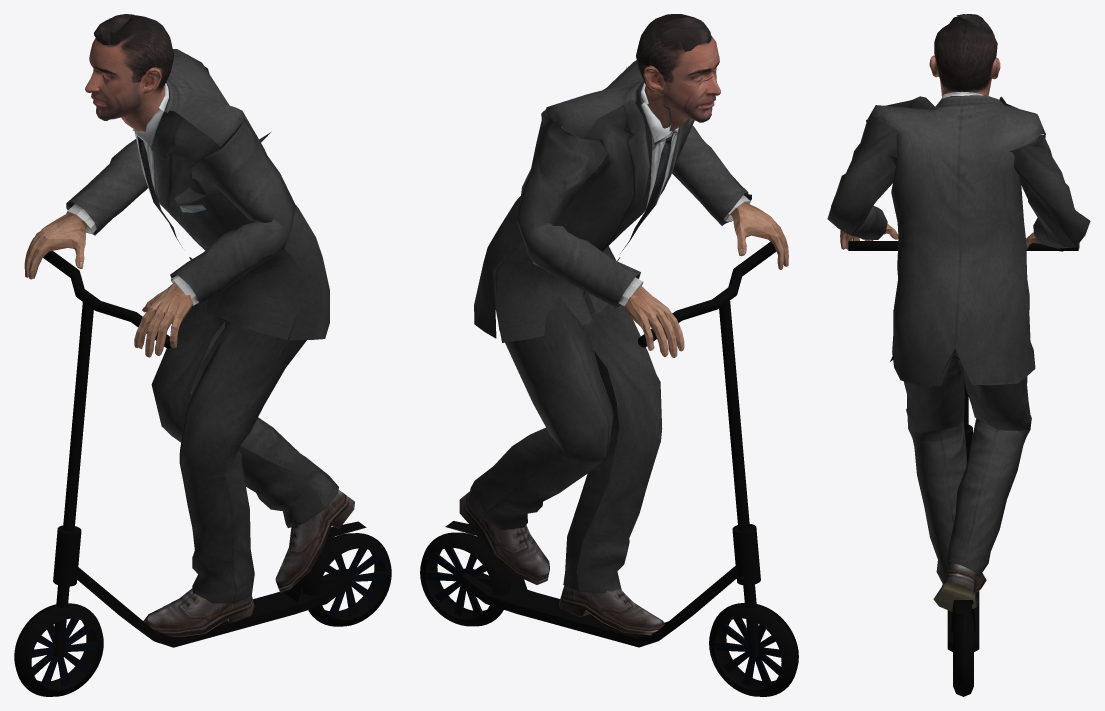
Rendered from trotinman.obj.
The picture shows the model from 3 angles, left to right: view 1: azimuth 30°, elevation 25°; view 2: azimuth 150°, elevation 25°; view 3: azimuth 270°, elevation 25°; orthographic projection. The views are drawn at different scales.
Visible parts, largest first — view 1: Object.007_Mesh.007_Material.007_007sc_greysuit.png, Cylinder.002_Cylinder.003, Object.003_Mesh.003_Material.003_007seanconnery_face.p, Object.005_Mesh.005_Material.005_007seanconnery_hand.p, Object.006_Mesh.006_Material.006_007seanc_tie.png.001, Object.009_Mesh.009_Material.009_007seanconnery_hair.p; view 2: Object.007_Mesh.007_Material.007_007sc_greysuit.png, Cylinder.002_Cylinder.003, Object.003_Mesh.003_Material.003_007seanconnery_face.p, Object.005_Mesh.005_Material.005_007seanconnery_hand.p, Object.009_Mesh.009_Material.009_007seanconnery_hair.p, Object.006_Mesh.006_Material.006_007seanc_tie.png.001; view 3: Object.007_Mesh.007_Material.007_007sc_greysuit.png, Object.003_Mesh.003_Material.003_007seanconnery_face.p, Cylinder.002_Cylinder.003, Object.005_Mesh.005_Material.005_007seanconnery_hand.p.
Boxes of the visible parts, bbox=[...] form: Object.007_Mesh.007_Material.007_007sc_greysuit.png: bbox=[66, 49, 354, 637]; Cylinder.002_Cylinder.003: bbox=[14, 251, 391, 696]; Object.003_Mesh.003_Material.003_007seanconnery_face.p: bbox=[85, 15, 174, 131]; Object.005_Mesh.005_Material.005_007seanconnery_hand.p: bbox=[24, 203, 198, 357]; Object.006_Mesh.006_Material.006_007seanc_tie.png.001: bbox=[137, 136, 206, 259]; Object.009_Mesh.009_Material.009_007seanconnery_hair.p: bbox=[94, 14, 133, 44]; Object.007_Mesh.007_Material.007_007sc_greysuit.png: bbox=[459, 60, 751, 635]; Cylinder.002_Cylinder.003: bbox=[420, 242, 798, 696]; Object.003_Mesh.003_Material.003_007seanconnery_face.p: bbox=[636, 14, 720, 131]; Object.005_Mesh.005_Material.005_007seanconnery_hand.p: bbox=[618, 195, 788, 357]; Object.009_Mesh.009_Material.009_007seanconnery_hair.p: bbox=[662, 17, 711, 51]; Object.006_Mesh.006_Material.006_007seanc_tie.png.001: bbox=[617, 131, 673, 261]; Object.007_Mesh.007_Material.007_007sc_greysuit.png: bbox=[827, 91, 1090, 611]; Object.003_Mesh.003_Material.003_007seanconnery_face.p: bbox=[929, 16, 1000, 96]; Cylinder.002_Cylinder.003: bbox=[848, 241, 1078, 696]; Object.005_Mesh.005_Material.005_007seanconnery_hand.p: bbox=[840, 224, 1079, 251].
Bounding box in the file's own units: 2.78 × 4.66 × 1.92.
